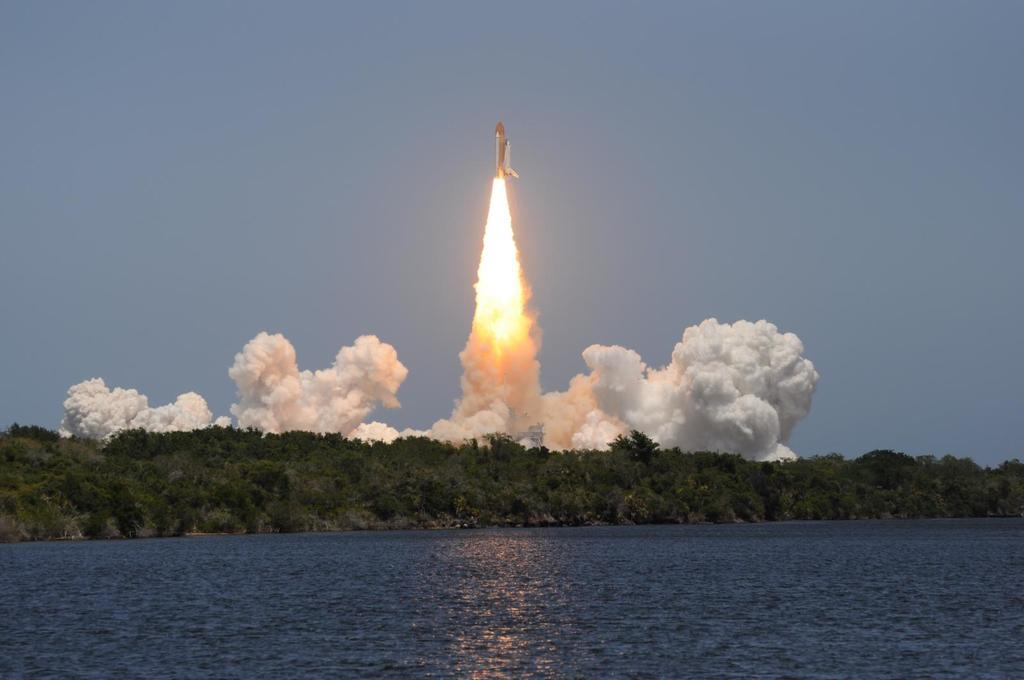Missile: (493, 116, 524, 183)
